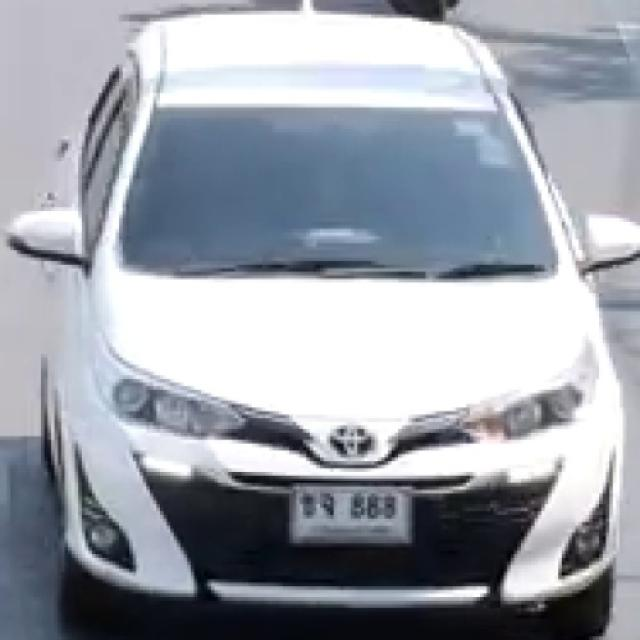plate: (291, 485, 414, 548)
